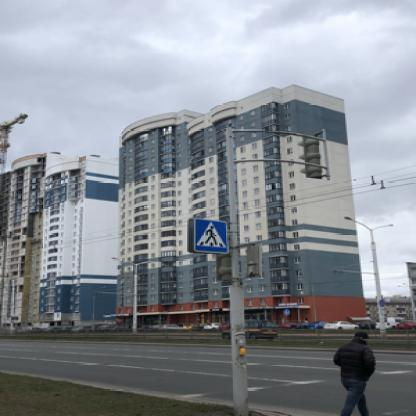crosswalk: (190, 216, 228, 254)
